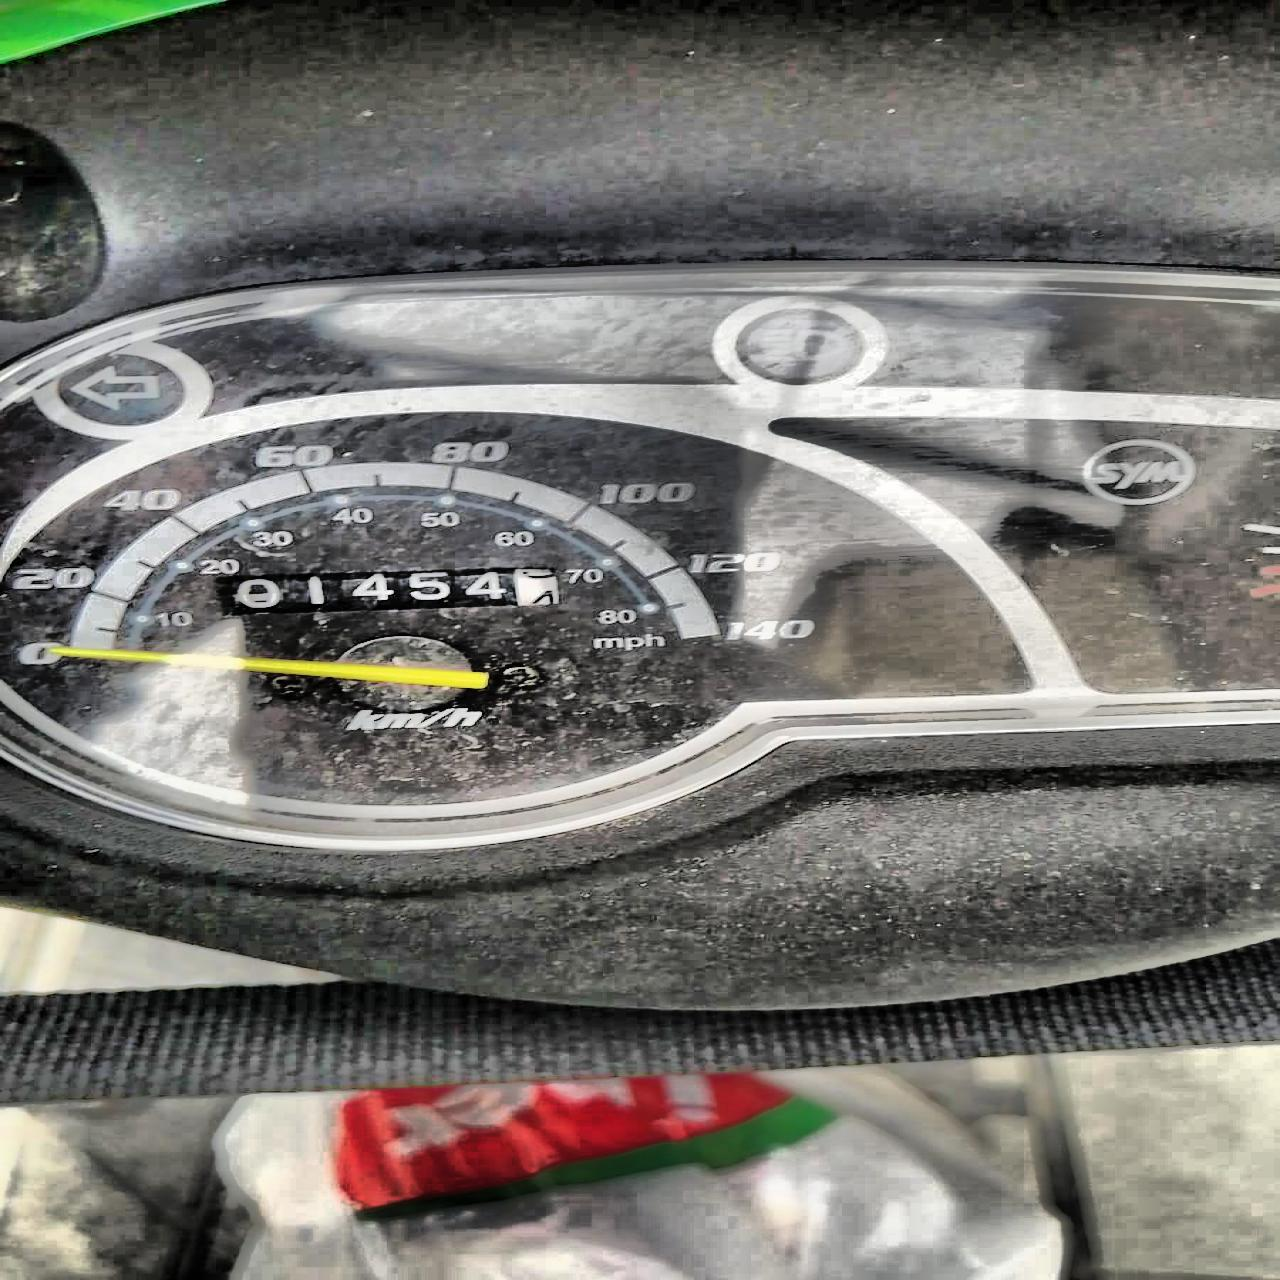0: (238, 574, 280, 607)
1: (301, 573, 329, 606)
4: (349, 571, 395, 601), (464, 570, 509, 600), (525, 586, 557, 607)
5: (407, 570, 451, 601)
odometer: (211, 566, 560, 615)
